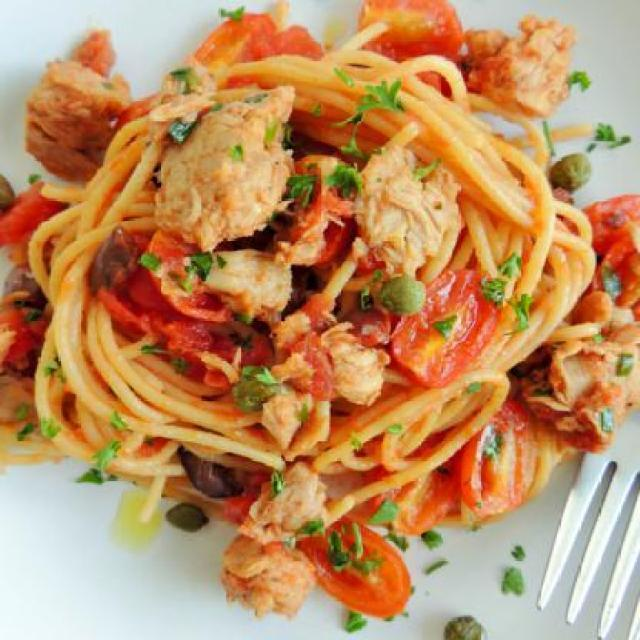Oil pasta: (27, 25, 607, 563)
